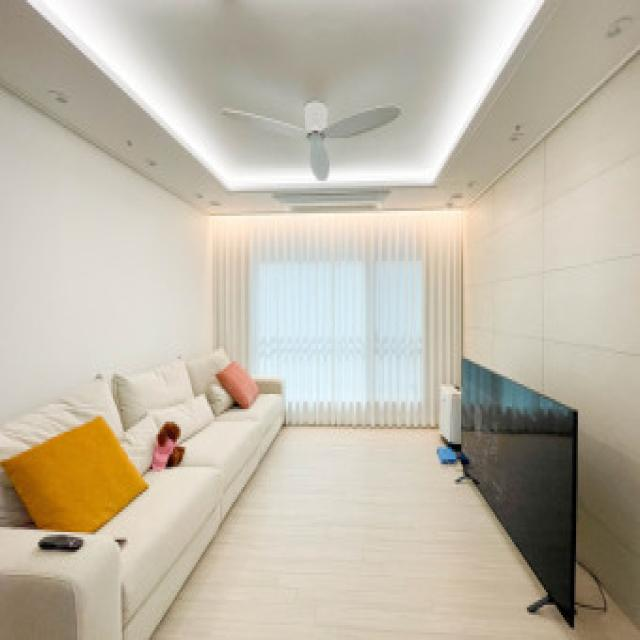Sofa: (1, 338, 290, 626)
tv: (461, 353, 586, 630)
window: (217, 217, 448, 402)
